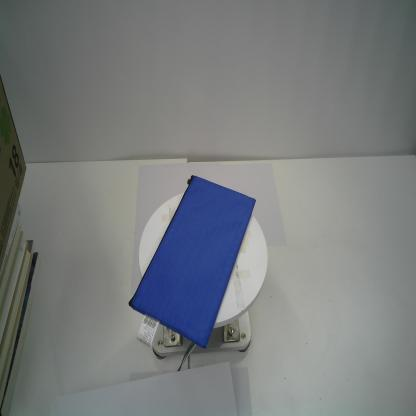Stationery: (128, 174, 257, 350)
